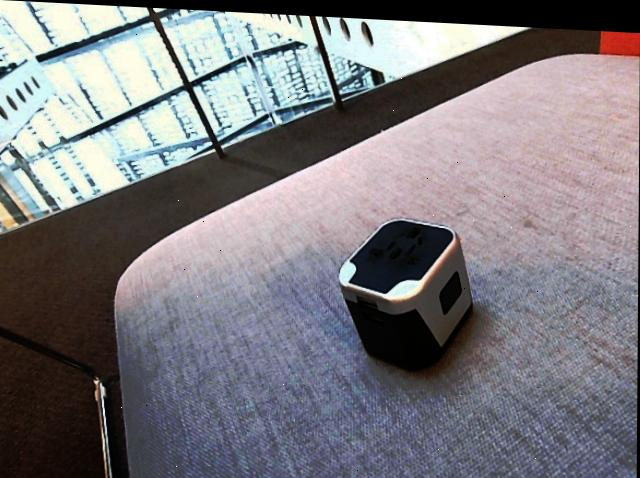adapter: (337, 209, 474, 368)
